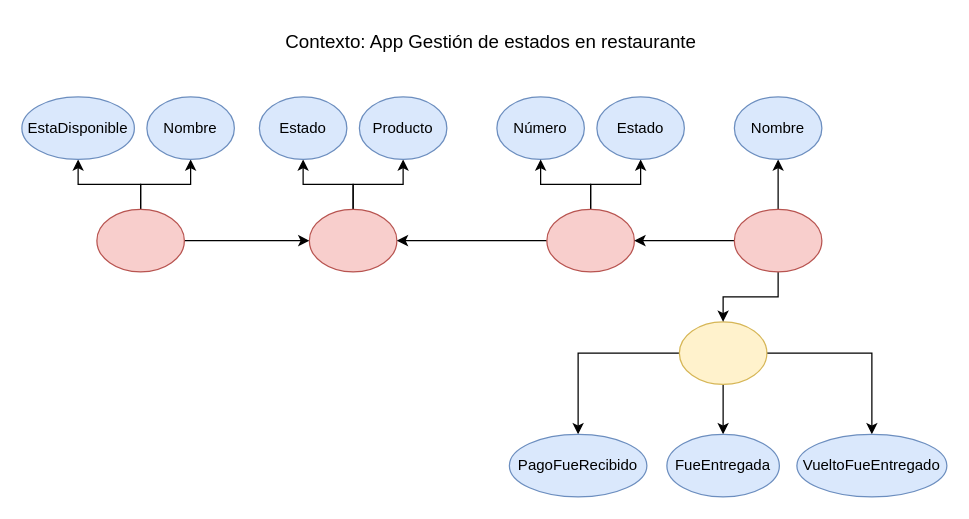
This 969x519 diagram has some shape labels left out. Each missing label, with the centre of its shape:
"Cocinero" belongs at point 140,240.
"Cuenta" belongs at point 722,352.
"Mesa" belongs at point 590,240.
"Mesero" belongs at point 777,240.
"Orden" belongs at point 352,240.
